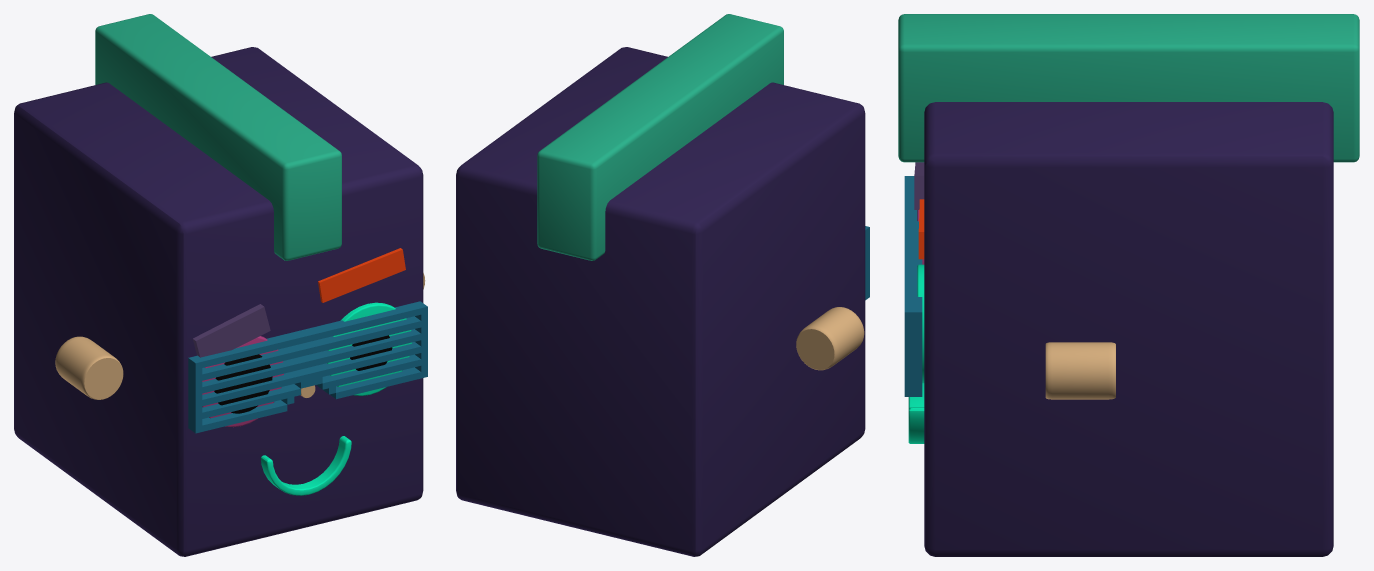
Rendered from sail-o-bots #559.glb.
3 views of the same model, side by side, from view 1: azimuth 30°, elevation 25°; view 2: azimuth 150°, elevation 25°; view 3: azimuth 270°, elevation 25° (orthographic). The views are drawn at different scales.
Parts seen in each view (by area): view 1: Head, Mohawk, Glasses, Arm R, Eyebrow R, Eyebrow L, Mouth, Eye L, Pupil R, Eye R; view 2: Head, Mohawk, Arm R; view 3: Head, Mohawk, Arm L, Glasses, Mouth.
Boxes of the visible parts, x1,y1,x2,y2 form: Head: (14,47,423,556); Mohawk: (95,14,341,260); Glasses: (188,301,427,433); Arm R: (55,336,123,399); Eyebrow R: (193,304,270,357); Eyebrow L: (318,248,405,302); Mouth: (261,436,351,495); Eye L: (327,302,412,395); Pupil R: (214,354,272,413); Eye R: (202,336,283,427); Head: (456,47,865,556); Mohawk: (537,14,783,260); Arm R: (796,307,864,370); Head: (924,102,1333,556); Mohawk: (898,14,1359,162); Arm L: (1045,342,1115,399); Glasses: (904,176,922,396); Mouth: (908,383,924,443).
Bounding box in the file's own units: 2.94 × 3.12 × 2.84.
10 materials, 10 textured.
